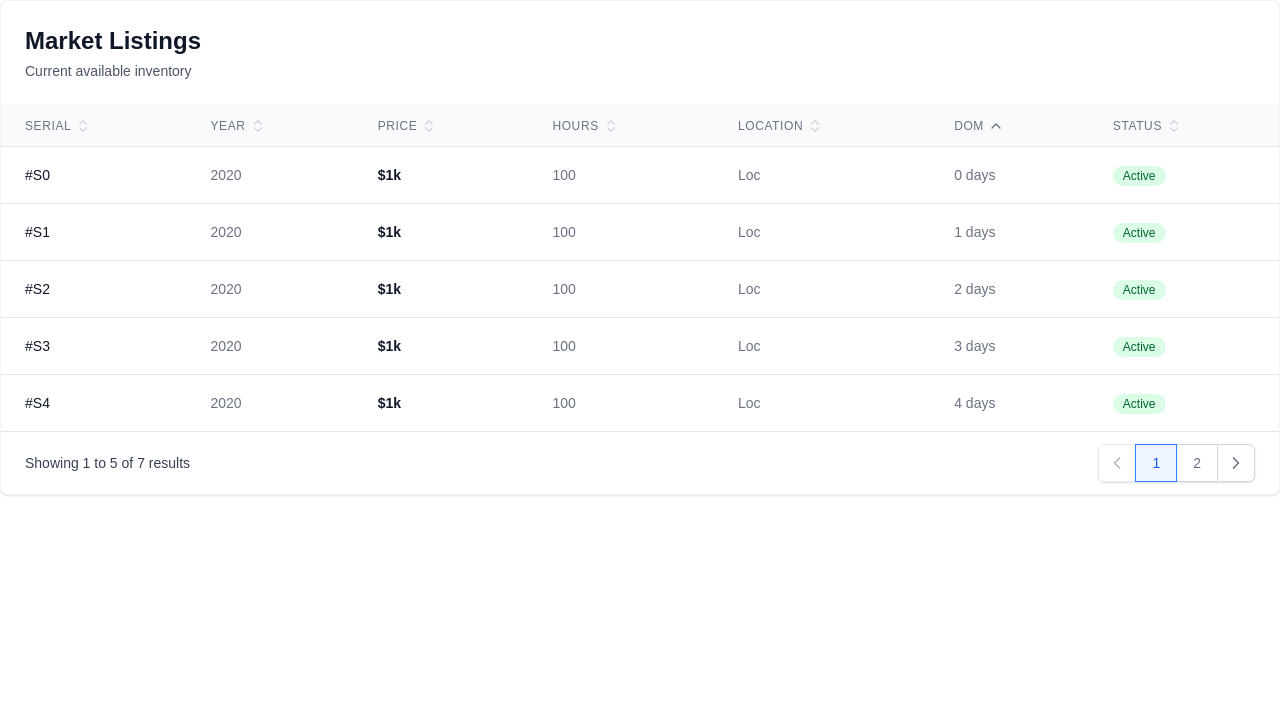
Scenario: AircraftTable Component › paginates listings correctly
Expected: the text "#S0" is shown, top-left (1, 146), bottom-right (186, 204)
Expected: the text "#S4" is shown, top-left (1, 374), bottom-right (186, 431)
# Actually, the page numbers are buttons too.
Click the button "2" at (1197, 463), box top-left (1176, 444), bottom-right (1218, 482)
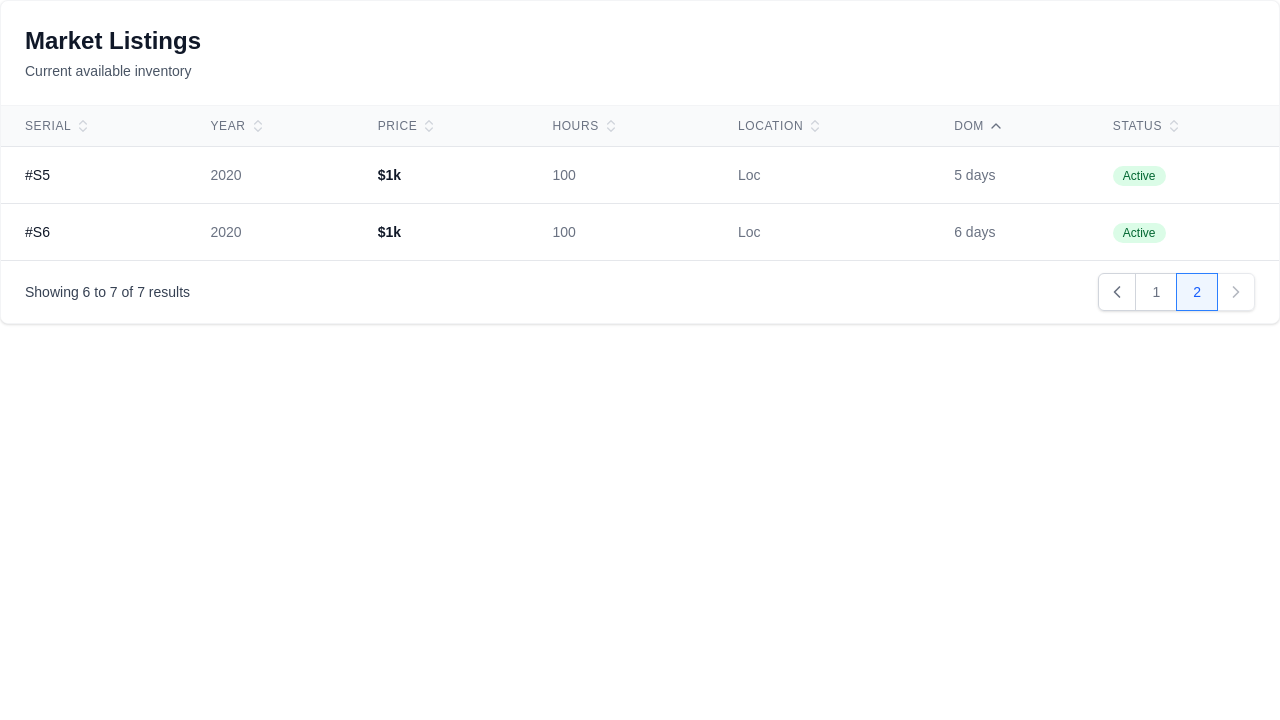
Expected: the text "#S5" is shown, top-left (1, 146), bottom-right (186, 204)
Expected: the text "#S6" is shown, top-left (1, 204), bottom-right (186, 260)
Expected: the text "#S0" is gone
